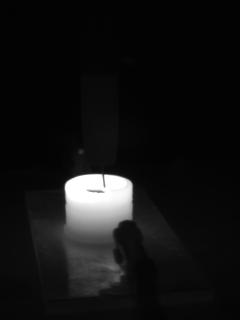tip_wire_left: (86, 161, 106, 191)
tip_wire_right: (103, 161, 117, 191)
